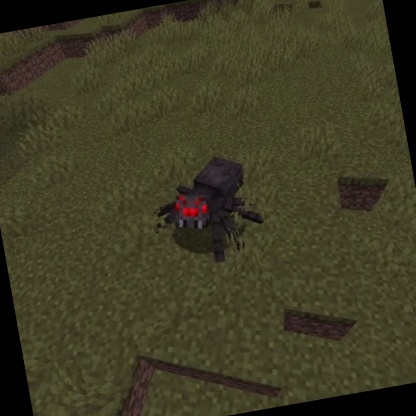spider: (140, 146, 274, 278)
